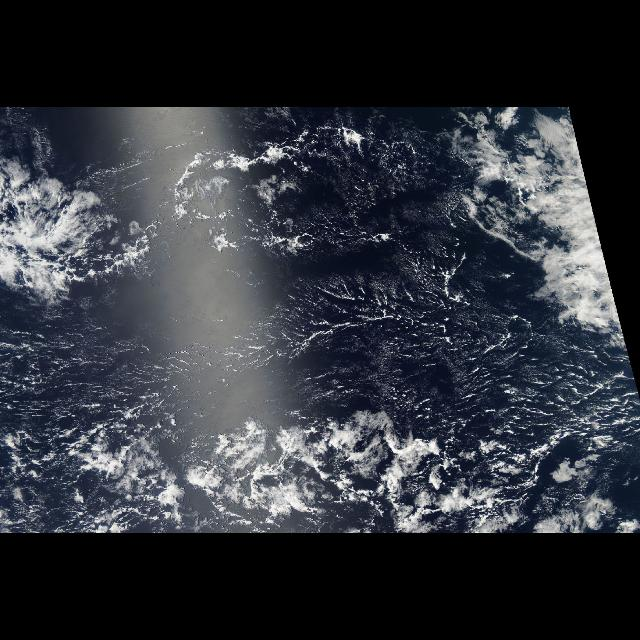Gravel: (294, 286, 534, 418)
Sugar: (0, 317, 124, 409)
